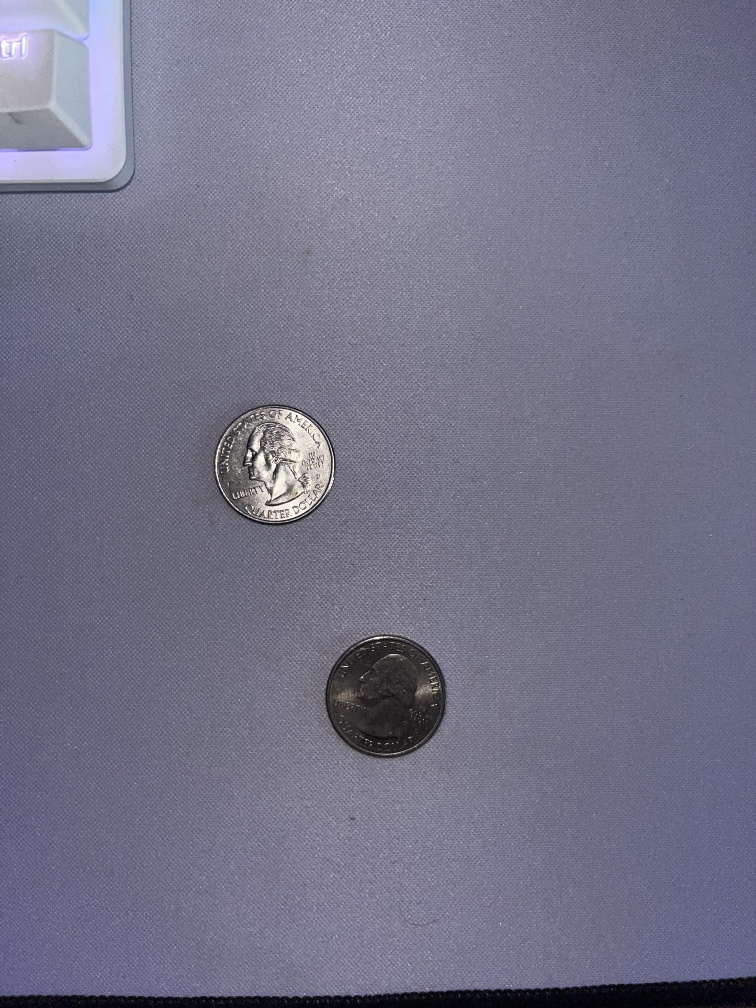quarter: (204, 394, 344, 540), (314, 629, 456, 765)
